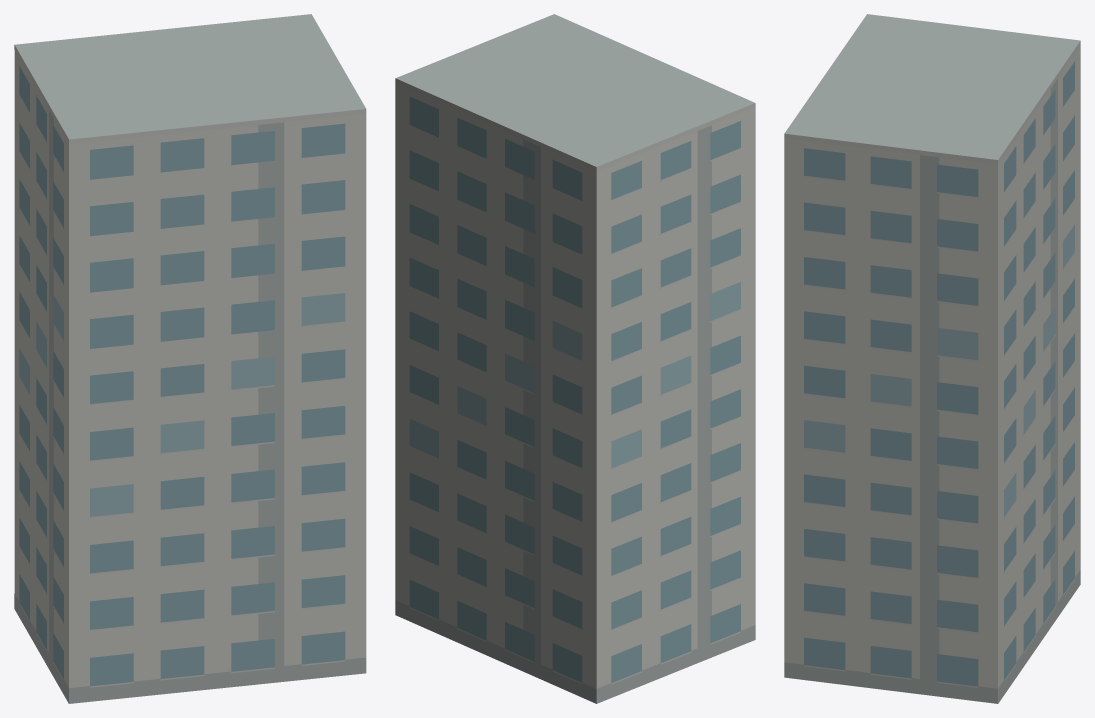
File: residential-e41b1188-b645-4a4e-a61b-b0636ad2639e.glb
The picture shows the model from 3 angles, left to right: view 1: azimuth 30°, elevation 25°; view 2: azimuth 150°, elevation 25°; view 3: azimuth 270°, elevation 25°; orthographic projection. The views are drawn at different scales.
Visible parts, largest first — view 1: residential-e41b1188-b645-4a4e-a61b-b0636ad2639e.tmp; view 2: residential-e41b1188-b645-4a4e-a61b-b0636ad2639e.tmp; view 3: residential-e41b1188-b645-4a4e-a61b-b0636ad2639e.tmp.
Part boxes in pixels (bbox=[...]): residential-e41b1188-b645-4a4e-a61b-b0636ad2639e.tmp: bbox=[14, 14, 366, 703]; residential-e41b1188-b645-4a4e-a61b-b0636ad2639e.tmp: bbox=[395, 14, 755, 703]; residential-e41b1188-b645-4a4e-a61b-b0636ad2639e.tmp: bbox=[784, 14, 1080, 703].
Bounding box in the file's own units: 16.13 × 28 × 13.84.
